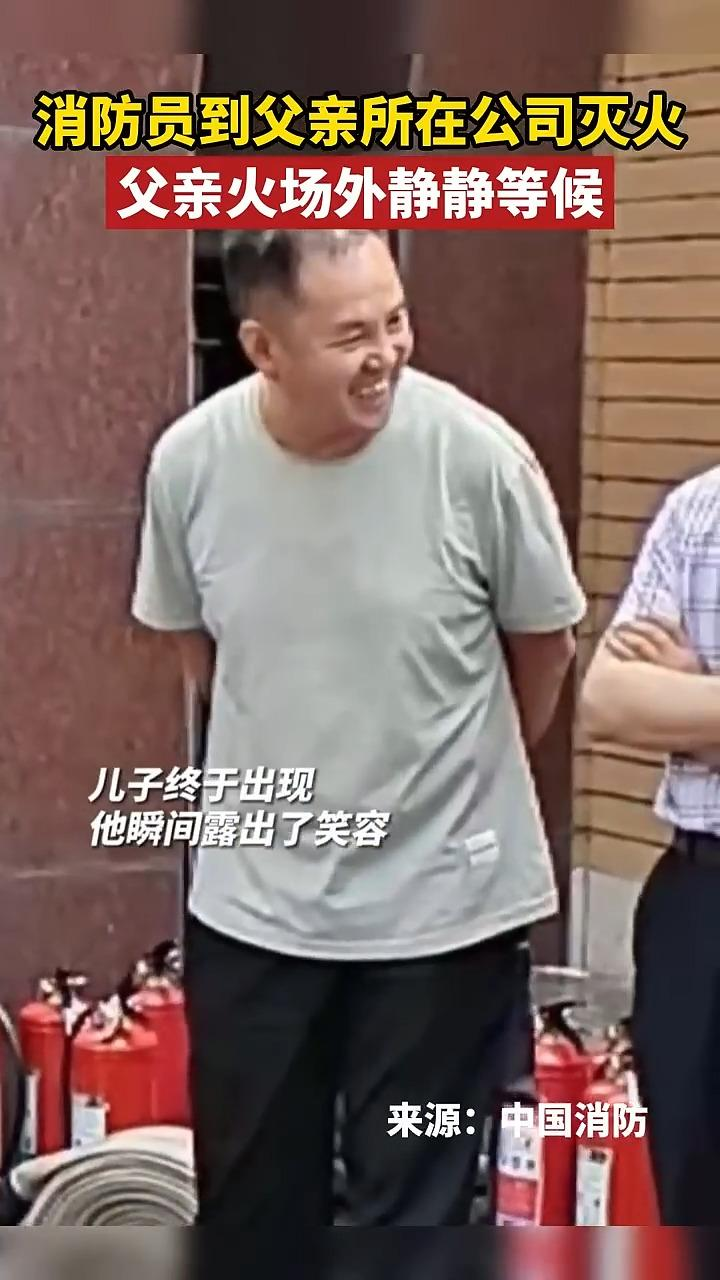FireExtinguisher: (3, 925, 203, 1169), (493, 978, 665, 1238)
